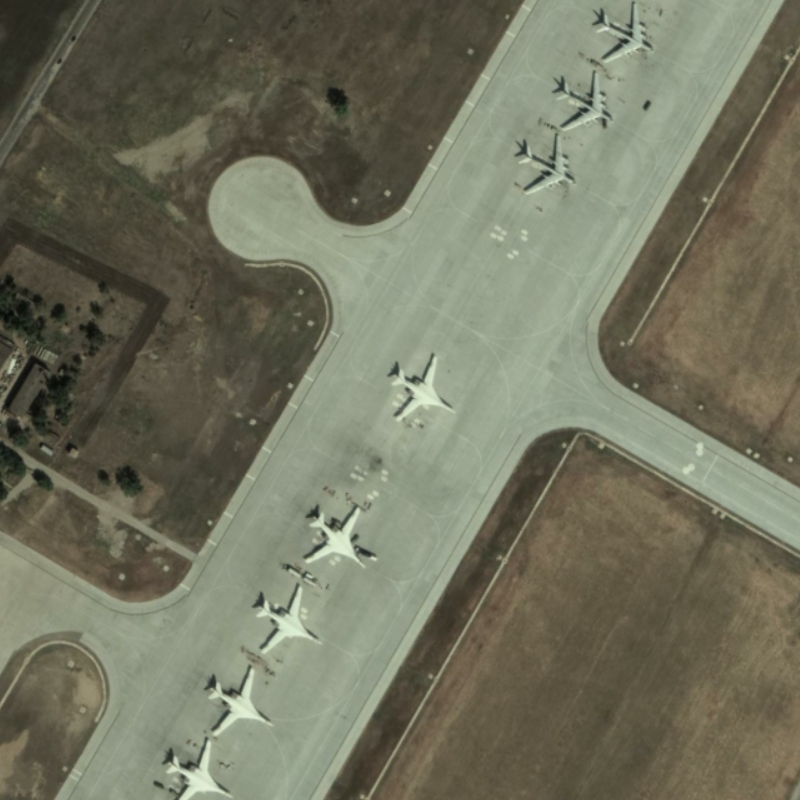A17: (589, 1, 657, 66), (514, 132, 579, 196), (553, 69, 615, 133)
A6: (252, 583, 325, 658), (385, 352, 458, 425), (204, 663, 276, 737), (301, 504, 375, 572), (163, 735, 238, 800)
